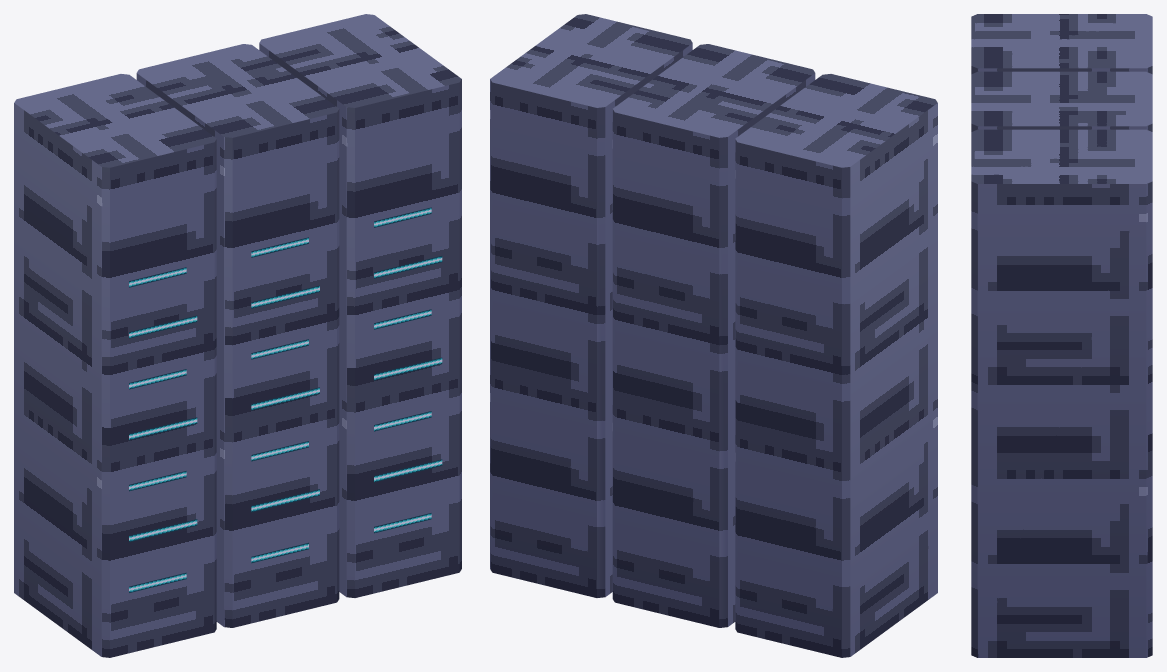
File: cytech.rack__tall.glb
3 views of the same model, side by side, from view 1: azimuth 30°, elevation 25°; view 2: azimuth 150°, elevation 25°; view 3: azimuth 270°, elevation 25° (orthographic). The views are drawn at different scales.
Visible parts, largest first — view 1: kit_cabinets, kit_card_lights; view 2: kit_cabinets; view 3: kit_cabinets.
Part boxes in pixels (x1,y1,x2,y2): kit_cabinets: [14, 14, 461, 657]; kit_card_lights: [129, 207, 442, 592]; kit_cabinets: [490, 14, 937, 657]; kit_cabinets: [971, 14, 1152, 657].
Size of the model in its own units: 2 by 2.6 by 0.925.
2 materials, 2 textured.
